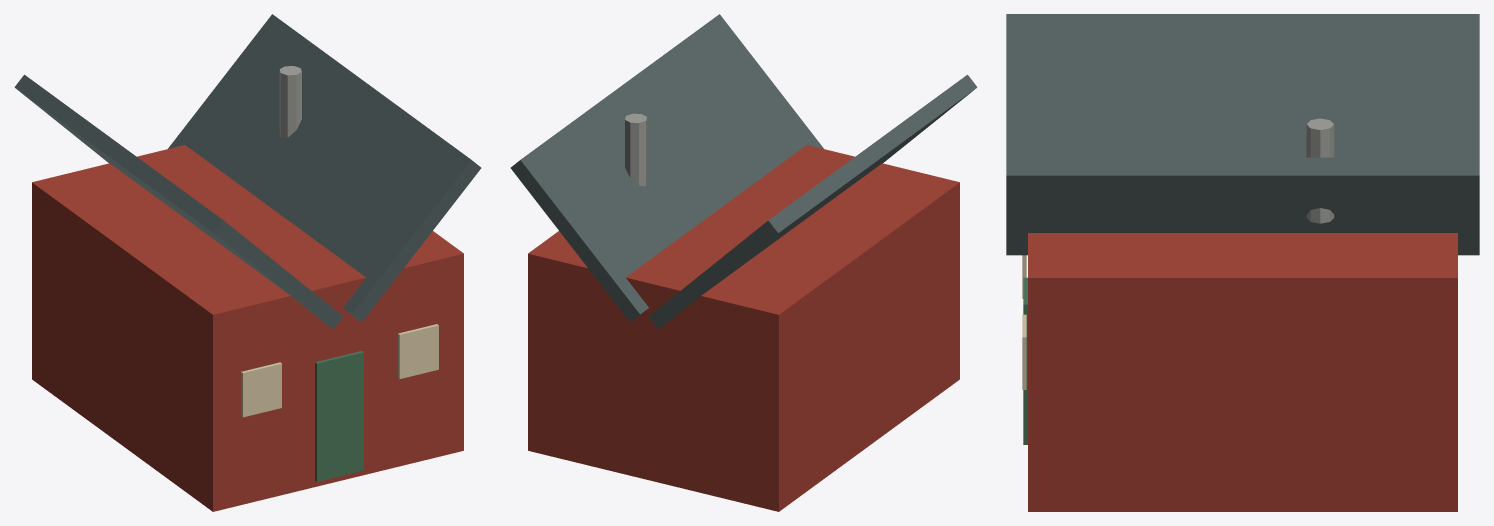
Rendered from norway-house_lod0.glb.
3 renders of one model, left to right at view 1: azimuth 30°, elevation 25°; view 2: azimuth 150°, elevation 25°; view 3: azimuth 270°, elevation 25°, orthographic. The views are drawn at different scales.
Visible parts, largest first — view 1: RF_House_Body, RF_House_Roof_B, RF_House_Roof_A, RF_House_Door, RF_House_Window, RF_House_Window.001, RF_House_Chimney; view 2: RF_House_Body, RF_House_Roof_B, RF_House_Roof_A, RF_House_Chimney; view 3: RF_House_Body, RF_House_Roof_A, RF_House_Roof_B, RF_House_Chimney, RF_House_Door.
Part boxes in pixels (<box>): RF_House_Body: <box>32,145,463,511</box>; RF_House_Roof_B: <box>168,14,481,322</box>; RF_House_Roof_A: <box>14,74,343,329</box>; RF_House_Door: <box>315,351,363,481</box>; RF_House_Window: <box>241,362,281,417</box>; RF_House_Window.001: <box>398,324,438,378</box>; RF_House_Chimney: <box>279,66,301,138</box>; RF_House_Body: <box>528,145,959,511</box>; RF_House_Roof_B: <box>510,14,823,322</box>; RF_House_Roof_A: <box>648,74,977,329</box>; RF_House_Chimney: <box>625,113,647,186</box>; RF_House_Body: <box>1028,233,1457,511</box>; RF_House_Roof_A: <box>1006,14,1479,157</box>; RF_House_Roof_B: <box>1006,157,1479,255</box>; RF_House_Chimney: <box>1306,118,1334,223</box>; RF_House_Door: <box>1023,277,1027,444</box>.
Bounding box in the file's own units: 8.54 × 9.2 × 11.
